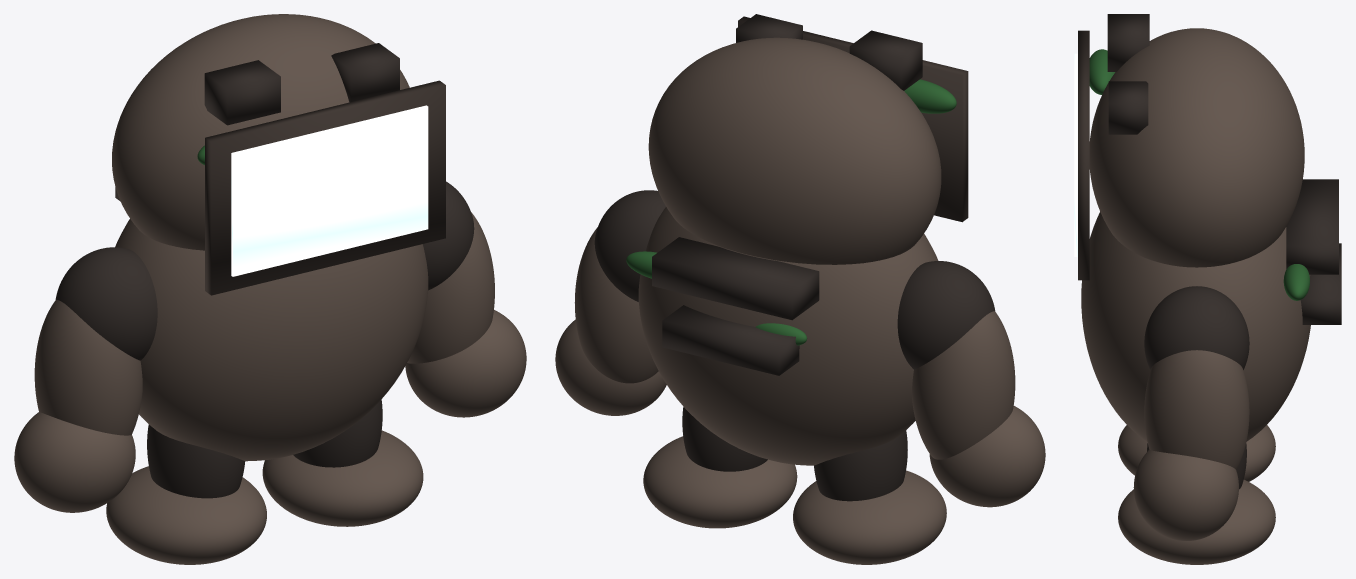
File: boulder.glb
The picture shows the model from 3 angles, left to right: view 1: azimuth 30°, elevation 25°; view 2: azimuth 150°, elevation 25°; view 3: azimuth 270°, elevation 25°; orthographic projection. The views are drawn at different scales.
Parts seen in each view (by area): view 1: body, head, face_screen, face_frame, foot_L, arm_L, foot_R, hand_L, shoulder_L, hand_R, arm_R, leg_L (+4 smaller); view 2: head, body, arm_L, foot_L, foot_R, back_plate_top, shoulder_L, hand_L, arm_R, back_plate_mid, face_frame, hand_R (+6 smaller); view 3: head, body, arm_R, hand_R, shoulder_R, foot_R, back_plate_top, face_frame, forehead_rock_R, foot_L, forehead_rock_L, back_plate_mid (+3 smaller).
Boxes of the visible parts, box(x1,y1,x2,y2) form: body: box(115, 219, 428, 461); head: box(112, 14, 409, 250); face_screen: box(231, 105, 428, 276); face_frame: box(205, 80, 445, 295); foot_L: box(106, 466, 266, 564); arm_L: box(34, 300, 142, 435); foot_R: box(262, 430, 423, 526); hand_L: box(14, 412, 135, 512); shoulder_L: box(55, 247, 157, 360); hand_R: box(405, 310, 526, 417); arm_R: box(407, 212, 494, 363); leg_L: box(147, 424, 245, 498); head: box(648, 37, 941, 264); body: box(638, 207, 938, 465); arm_L: box(912, 311, 1015, 459); foot_L: box(793, 470, 946, 564); foot_R: box(643, 436, 797, 528); back_plate_top: box(652, 237, 819, 320); shoulder_L: box(897, 261, 995, 369); hand_L: box(929, 406, 1045, 507); arm_R: box(574, 227, 658, 383); back_plate_mid: box(662, 305, 799, 375); face_frame: box(738, 16, 968, 222); hand_R: box(555, 319, 666, 415); head: box(1089, 28, 1304, 267); body: box(1081, 211, 1310, 441); arm_R: box(1144, 350, 1249, 469); hand_R: box(1133, 449, 1238, 540); shoulder_R: box(1144, 286, 1249, 369); foot_R: box(1118, 479, 1275, 564); back_plate_top: box(1286, 179, 1338, 274); face_frame: box(1078, 30, 1089, 280); forehead_rock_R: box(1108, 81, 1148, 134); foot_L: box(1118, 425, 1275, 481); forehead_rock_L: box(1107, 14, 1149, 71); back_plate_mid: box(1300, 243, 1341, 324).
Bounding box in the file's own units: 1.11 × 1.08 × 0.5542.
